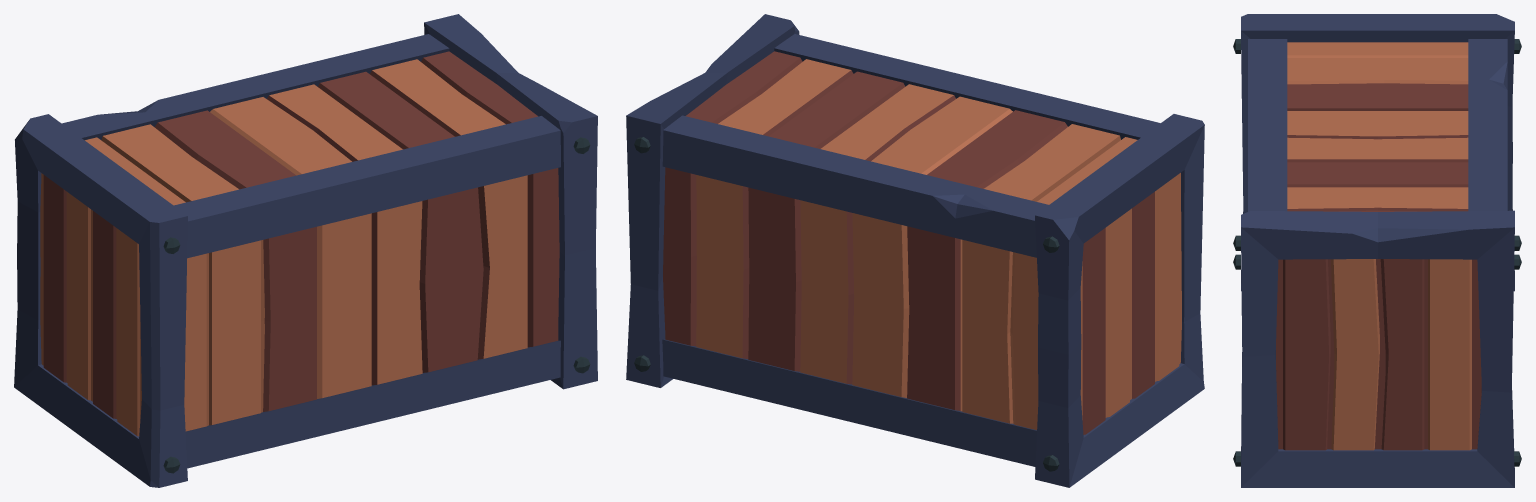
The model's file is Box Wood 02.fbx.
3 renders of one model, left to right at view 1: azimuth 30°, elevation 25°; view 2: azimuth 150°, elevation 25°; view 3: azimuth 270°, elevation 25°, orthographic.
Parts seen in each view (by area): view 1: Box Wood 02; view 2: Box Wood 02; view 3: Box Wood 02.
Boxes of the visible parts, <box> form: Box Wood 02: <box>14,14,597,487</box>; Box Wood 02: <box>626,14,1204,487</box>; Box Wood 02: <box>1233,14,1521,487</box>.
Bounding box in the file's own units: 164 × 93.15 × 93.55.
